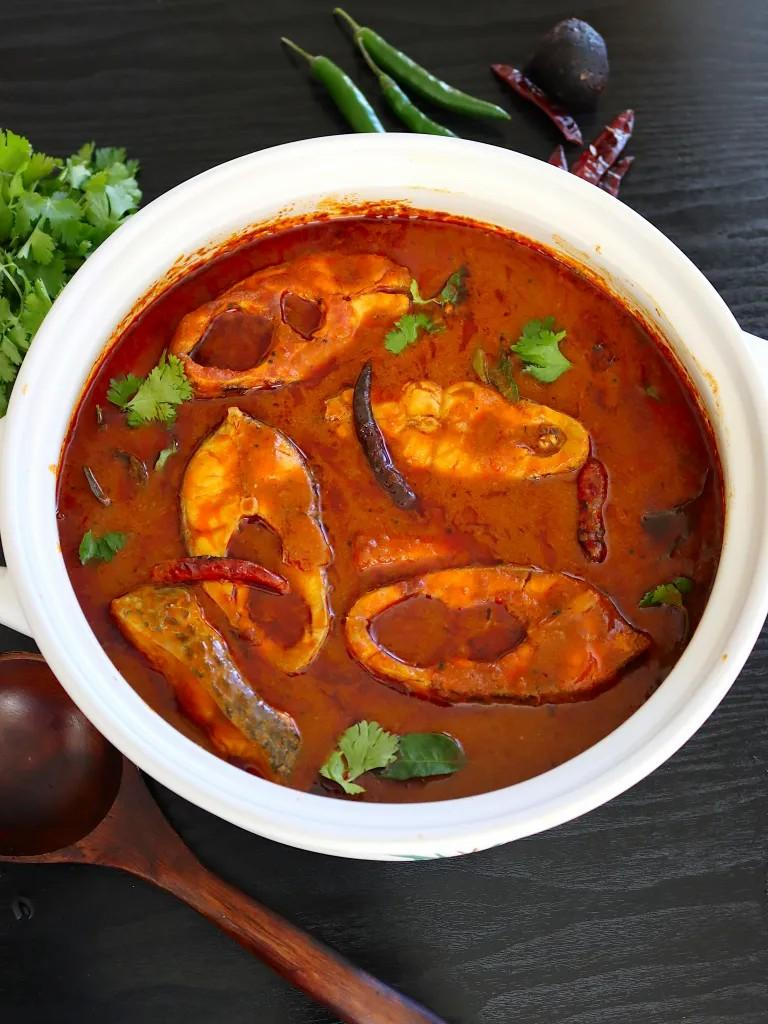FishCurry: (68, 202, 727, 801)
